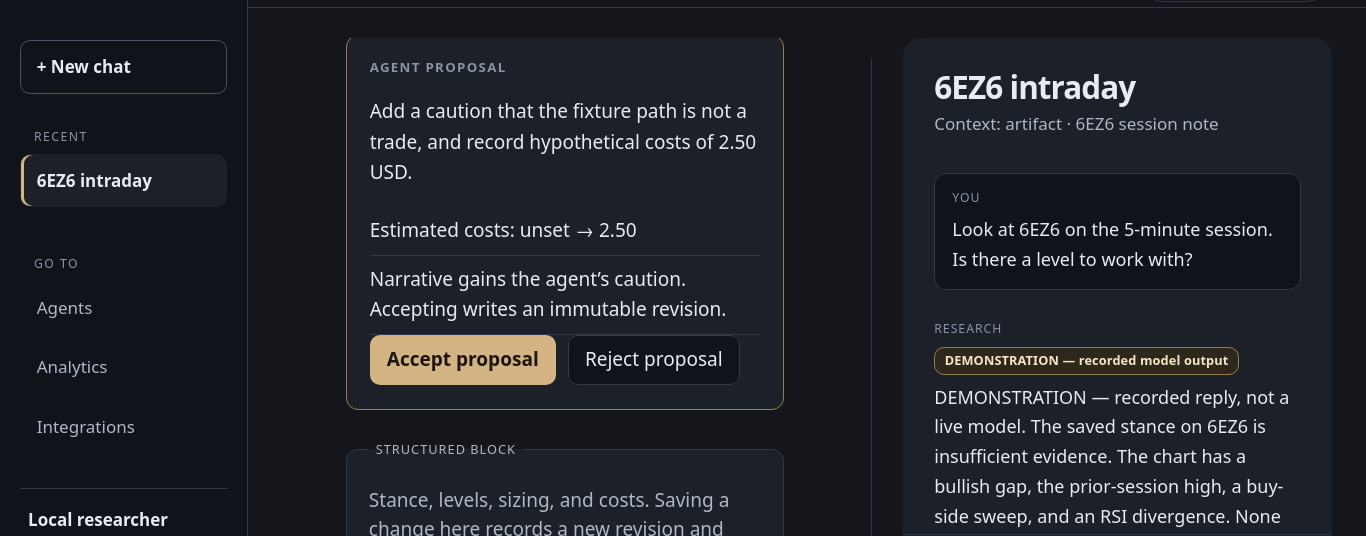
Test: agent proposals › accepts a proposal into the draft and an immutable revision
(page scrolled)
Click the button "Accept proposal" at (463, 360), box [370,335,556,385]
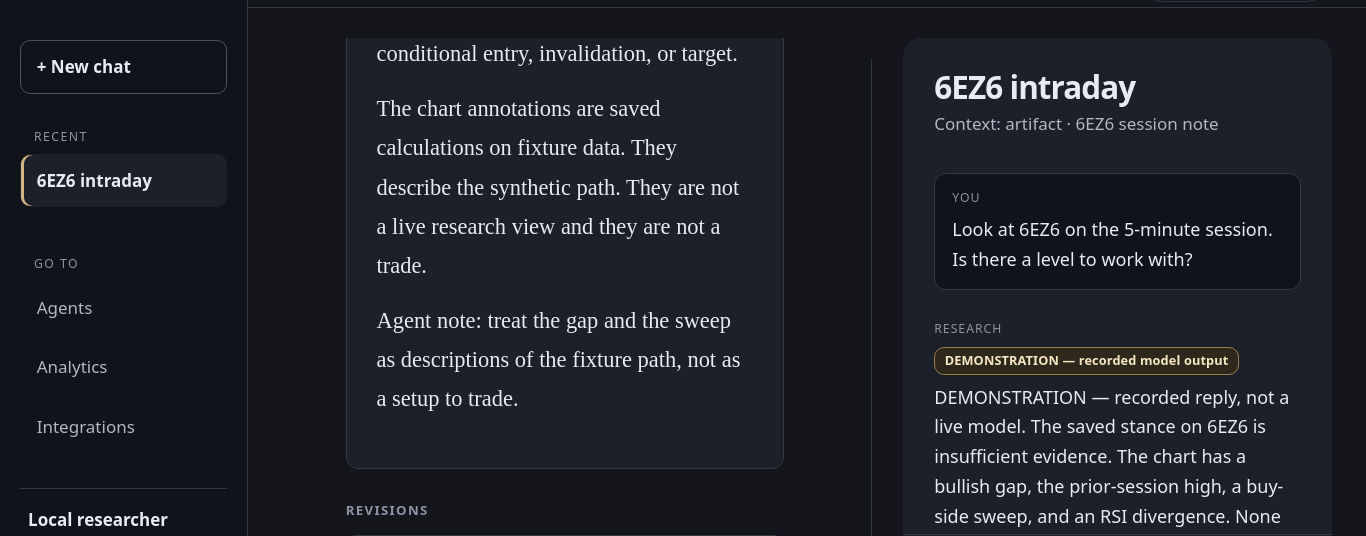
Expected: the button "Accept proposal" is gone
Expected: the text box "not as a setup to trade" is shown, [376,308,746,411]
